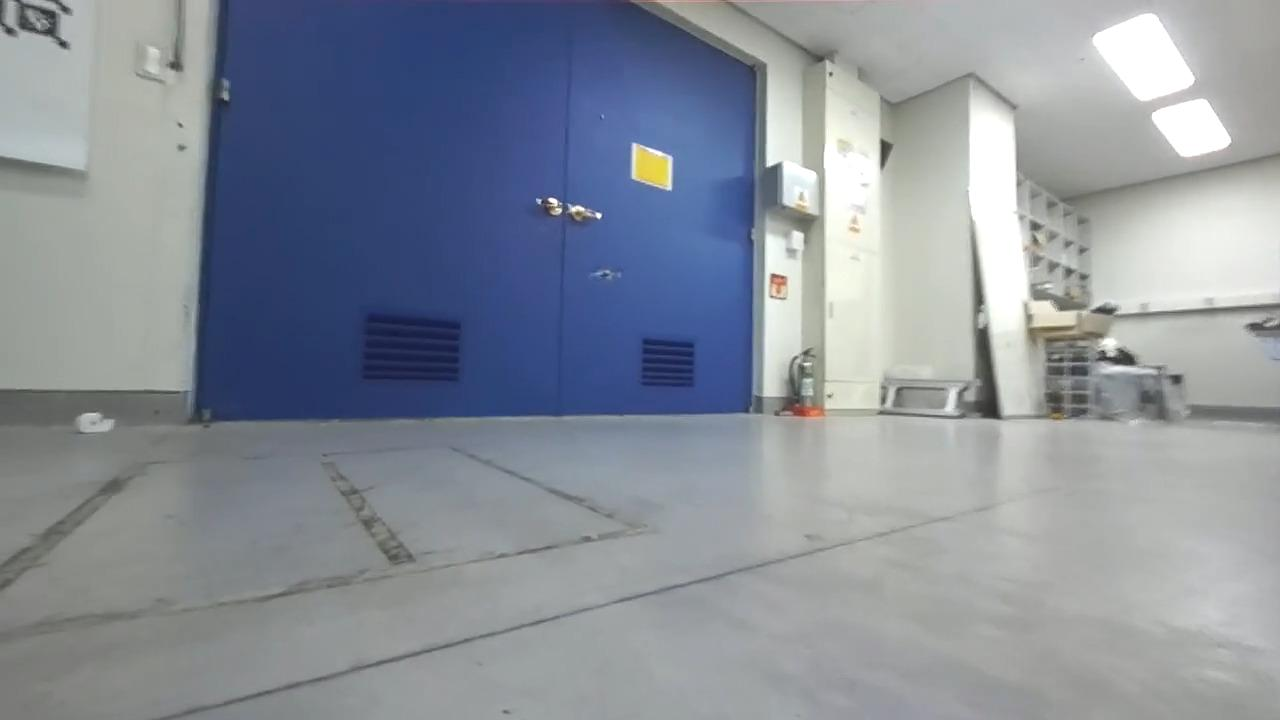crazyflie: (578, 261, 630, 287)
